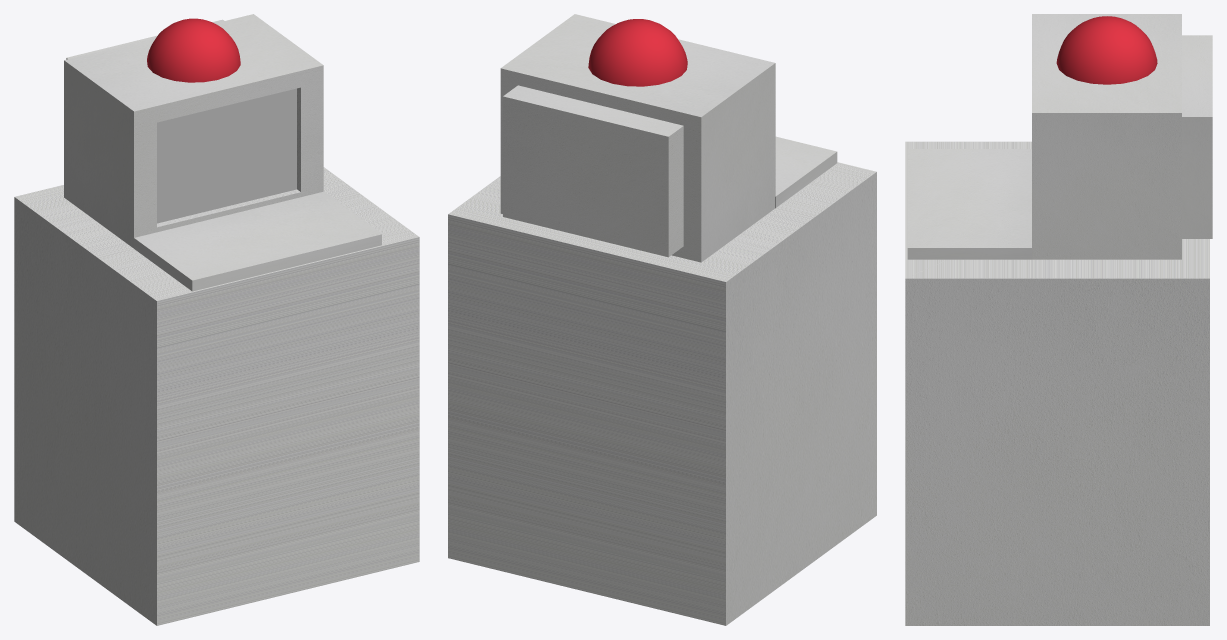
The picture shows the model from 3 angles, left to right: view 1: azimuth 30°, elevation 25°; view 2: azimuth 150°, elevation 25°; view 3: azimuth 270°, elevation 25°; orthographic projection. The views are drawn at different scales.
Visible parts, largest first — view 1: group_pasted__group2_pasted__pasted__group_pasted__pasted__paste; view 2: group_pasted__group2_pasted__pasted__group_pasted__pasted__paste; view 3: group_pasted__group2_pasted__pasted__group_pasted__pasted__paste.
Part boxes in pixels (bbox=[...]): group_pasted__group2_pasted__pasted__group_pasted__pasted__paste: bbox=[14, 14, 419, 625]; group_pasted__group2_pasted__pasted__group_pasted__pasted__paste: bbox=[448, 14, 876, 625]; group_pasted__group2_pasted__pasted__group_pasted__pasted__paste: bbox=[905, 14, 1212, 625].
Size of the model in its own units: 6.39 by 11.67 by 6.06.
